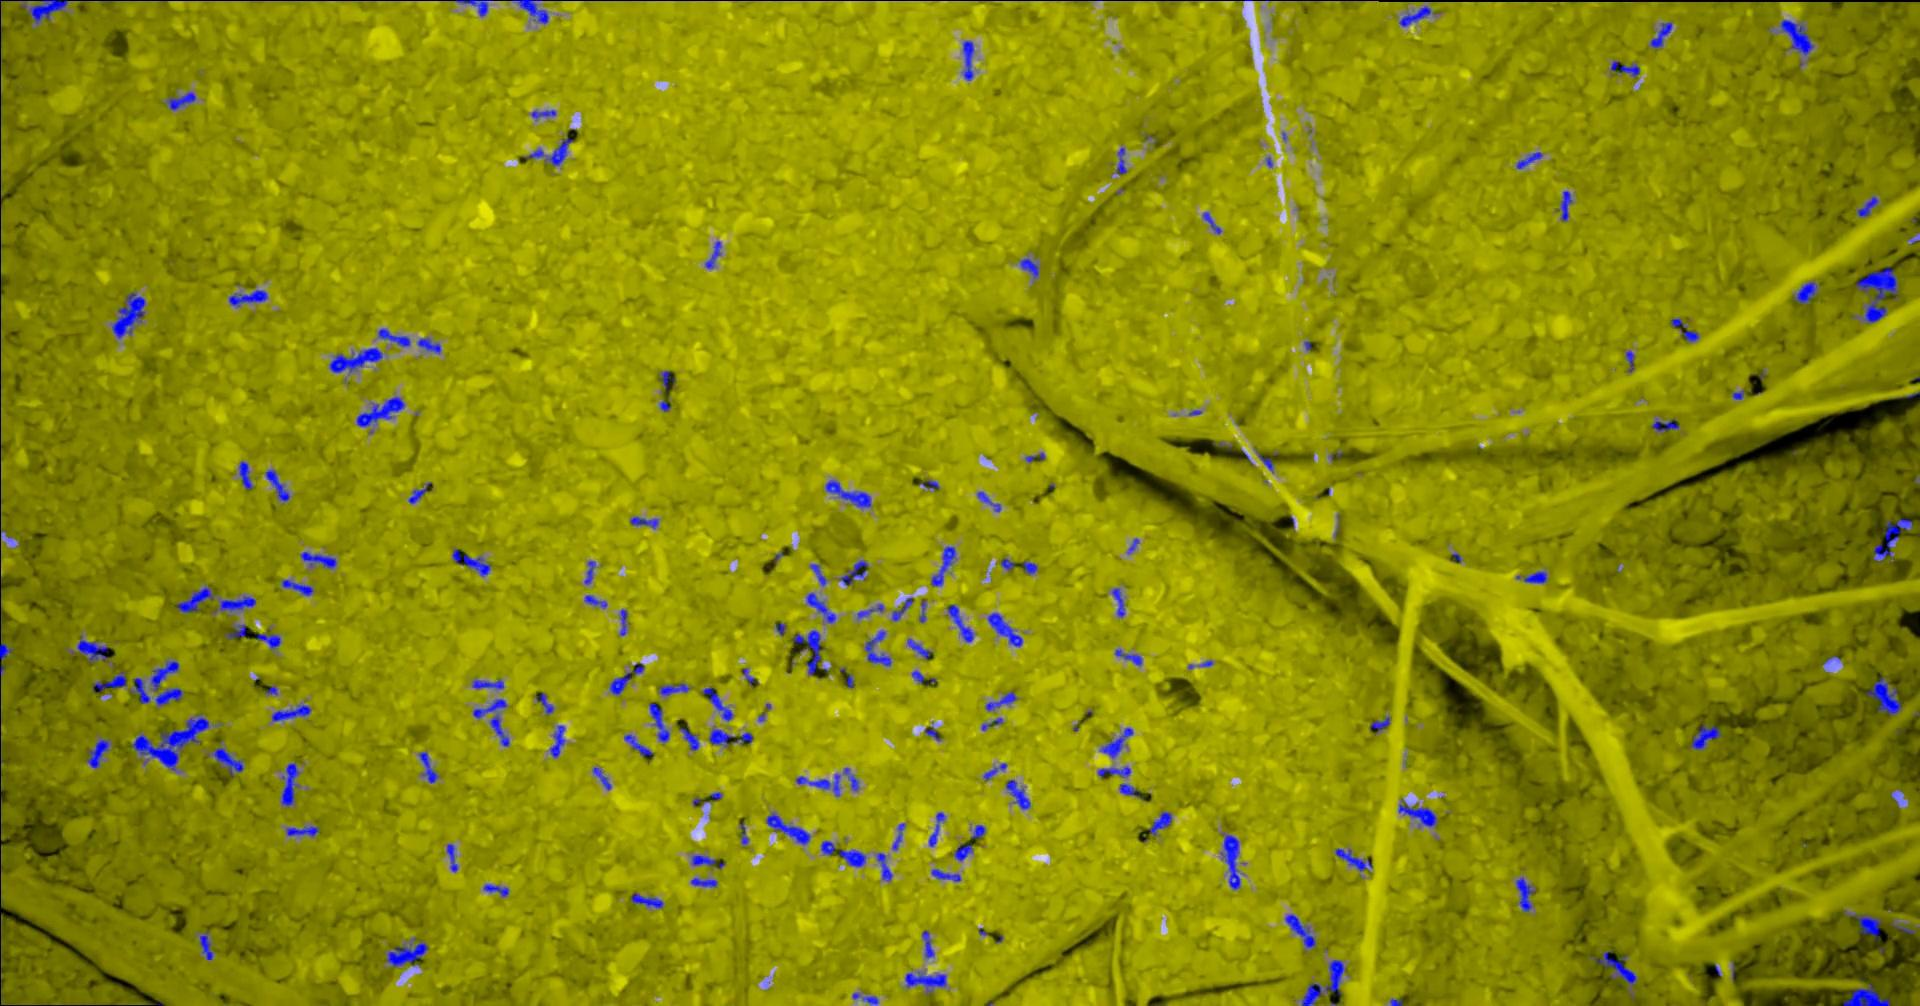ant: (1302, 959, 1345, 1005), (1872, 518, 1912, 561), (472, 699, 509, 746), (110, 291, 145, 338), (1589, 950, 1636, 984), (522, 136, 573, 165), (150, 661, 182, 705), (766, 812, 810, 843), (356, 396, 404, 426), (1865, 676, 1901, 715), (328, 347, 382, 372), (792, 630, 823, 674), (825, 479, 870, 507), (1779, 19, 1813, 55), (987, 612, 1022, 647), (820, 840, 865, 866), (610, 662, 644, 694), (1284, 913, 1316, 948), (212, 741, 243, 776), (1844, 909, 1881, 939), (20, 0, 67, 23), (452, 547, 490, 575), (1220, 835, 1239, 889), (177, 586, 215, 612), (795, 774, 839, 796), (1843, 983, 1890, 1005), (385, 942, 427, 967), (1098, 727, 1131, 757), (702, 687, 731, 721), (930, 546, 955, 586), (863, 630, 891, 666), (947, 605, 974, 641), (1335, 848, 1371, 875), (1398, 800, 1436, 826), (904, 970, 945, 993), (806, 592, 836, 622), (510, 0, 549, 23), (648, 702, 669, 742), (279, 762, 298, 805), (838, 560, 869, 586), (76, 636, 107, 662), (1690, 724, 1721, 749), (1004, 779, 1030, 809), (709, 728, 752, 746), (265, 469, 290, 500), (0, 605, 13, 661), (270, 704, 310, 721), (91, 671, 126, 691), (86, 738, 109, 768), (1515, 876, 1535, 911), (215, 594, 255, 611), (1398, 5, 1430, 25), (1670, 318, 1698, 340), (229, 290, 267, 306), (298, 551, 337, 568), (455, 0, 491, 17), (418, 751, 437, 782), (623, 734, 651, 756), (377, 328, 410, 345), (928, 810, 945, 846), (985, 691, 1016, 710), (166, 91, 196, 111), (1650, 22, 1671, 47), (630, 892, 663, 908), (1793, 281, 1816, 304), (408, 481, 432, 503), (1149, 810, 1171, 835), (1610, 60, 1639, 77), (1114, 648, 1142, 666), (907, 638, 930, 659), (281, 579, 312, 594), (130, 677, 149, 702), (549, 725, 564, 757), (891, 597, 912, 620), (705, 240, 721, 268), (977, 492, 1001, 511), (1855, 196, 1877, 216), (1255, 448, 1272, 473), (1558, 191, 1572, 221), (876, 852, 891, 880), (1516, 151, 1542, 168), (691, 855, 724, 868), (963, 39, 973, 80), (1203, 211, 1222, 232), (592, 767, 611, 789), (692, 791, 721, 805), (931, 868, 960, 882), (856, 603, 883, 619), (681, 727, 698, 749), (255, 633, 279, 649), (1119, 782, 1143, 799), (237, 461, 251, 489), (921, 930, 935, 958), (199, 931, 213, 959), (1018, 258, 1037, 278), (535, 692, 552, 714), (417, 337, 439, 353), (809, 563, 825, 586), (983, 763, 1006, 780), (1097, 766, 1130, 777), (842, 767, 858, 790), (629, 516, 658, 528), (1111, 587, 1124, 616), (658, 683, 690, 695), (1515, 572, 1545, 583), (223, 624, 246, 639), (1651, 418, 1677, 431), (286, 826, 319, 836), (471, 678, 503, 688), (891, 823, 904, 848), (483, 883, 508, 895), (852, 992, 877, 1005), (662, 370, 676, 392), (446, 843, 457, 871), (584, 594, 606, 608), (954, 843, 971, 860), (1370, 716, 1389, 732), (982, 716, 1002, 730), (690, 876, 717, 887), (584, 560, 596, 584), (1116, 147, 1126, 174), (530, 109, 555, 119), (618, 608, 627, 635), (910, 669, 927, 683), (0, 915, 3, 1005), (739, 822, 748, 846), (1021, 560, 1037, 573), (1023, 452, 1044, 462), (971, 824, 985, 838), (919, 479, 938, 489), (1625, 351, 1634, 372), (1001, 558, 1015, 570), (918, 600, 924, 622)
